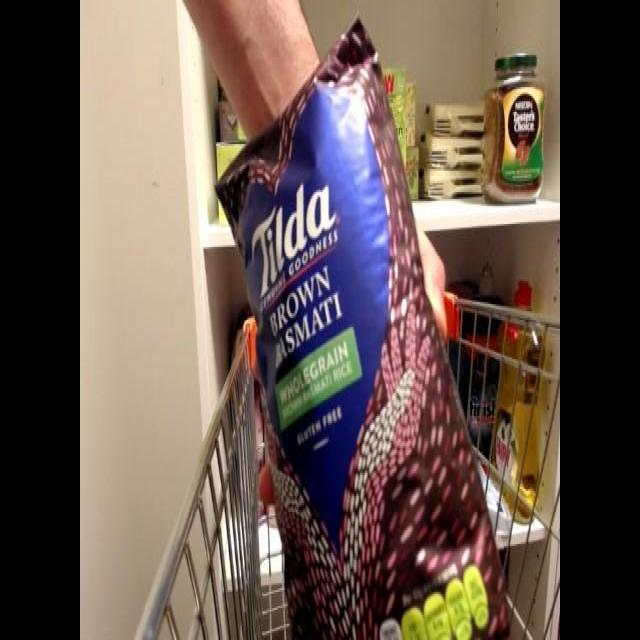Tida: (215, 20, 504, 628)
